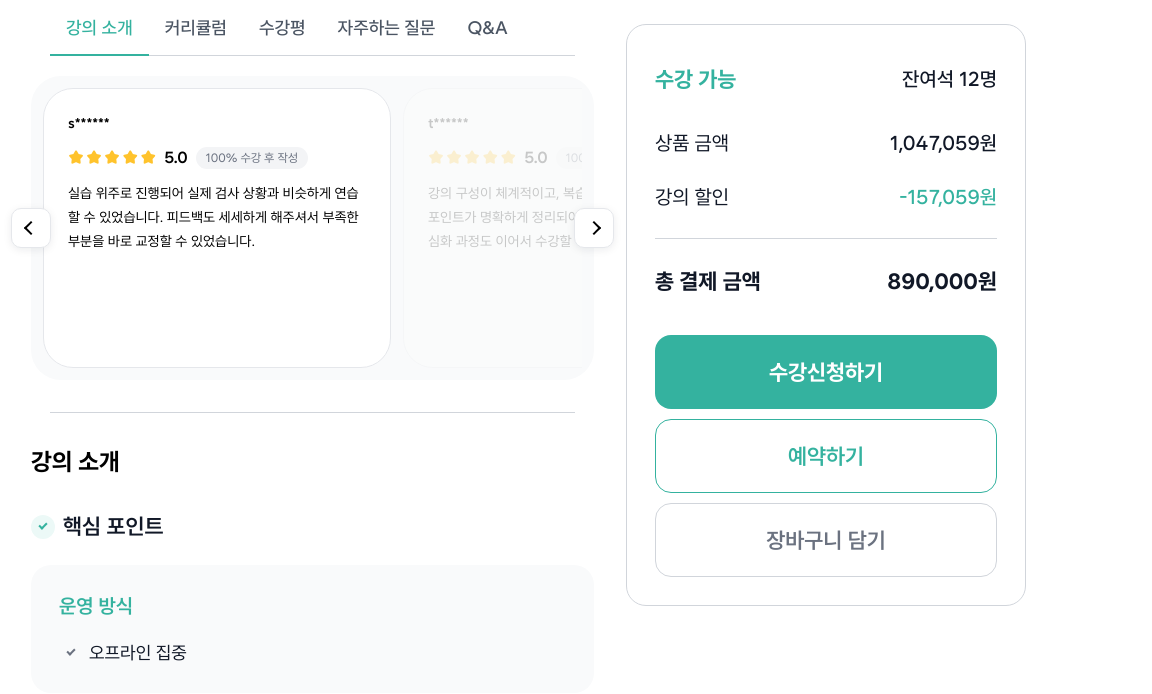
Test: ProgramPage › submits a reservation inquiry without requiring a login session
(page scrolled)
Click the button "예약하기" at (826, 456), box [655, 419, 997, 493]
(page scrolled)
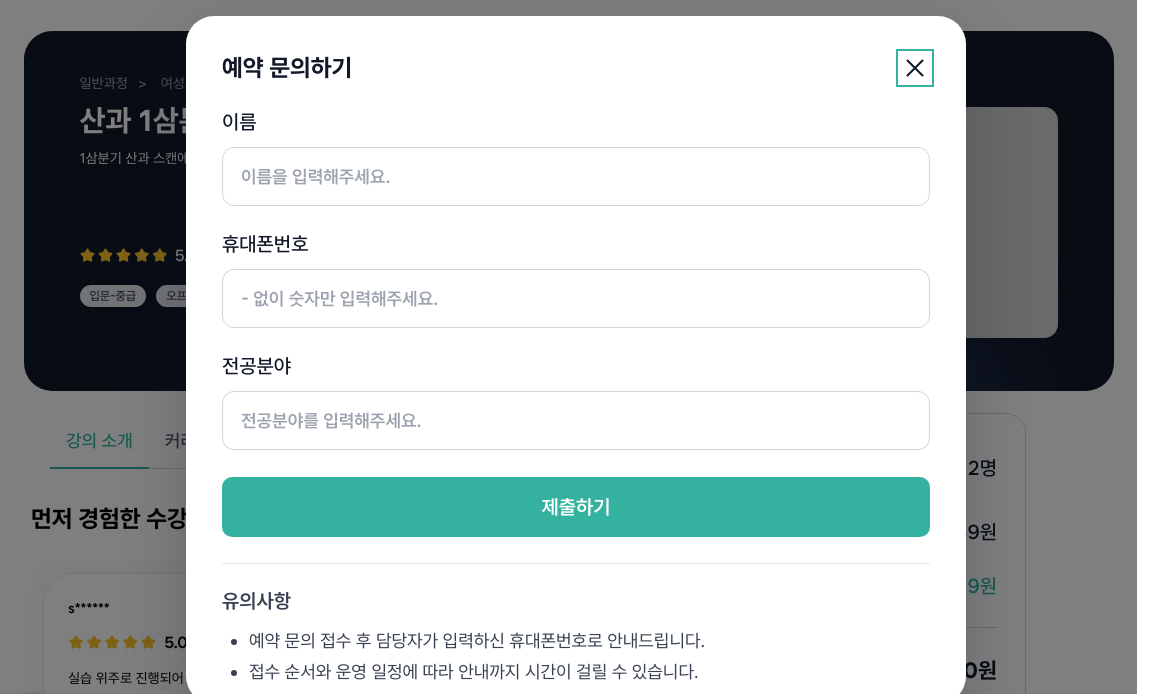
Expected: the field labelled "이름" is empty
Type "비회원 신청자" into the field labelled "이름" at (576, 177), box [222, 147, 930, 206]
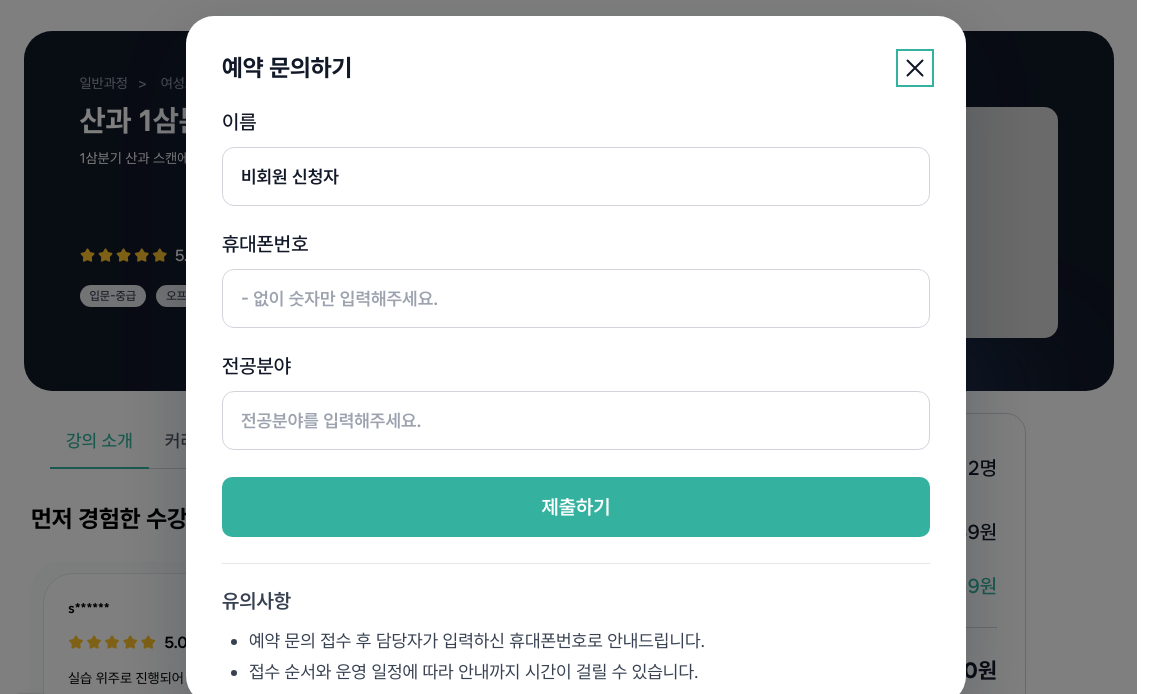
Type "01012345678" into the field labelled "휴대폰번호" at (576, 299), box [222, 269, 930, 328]
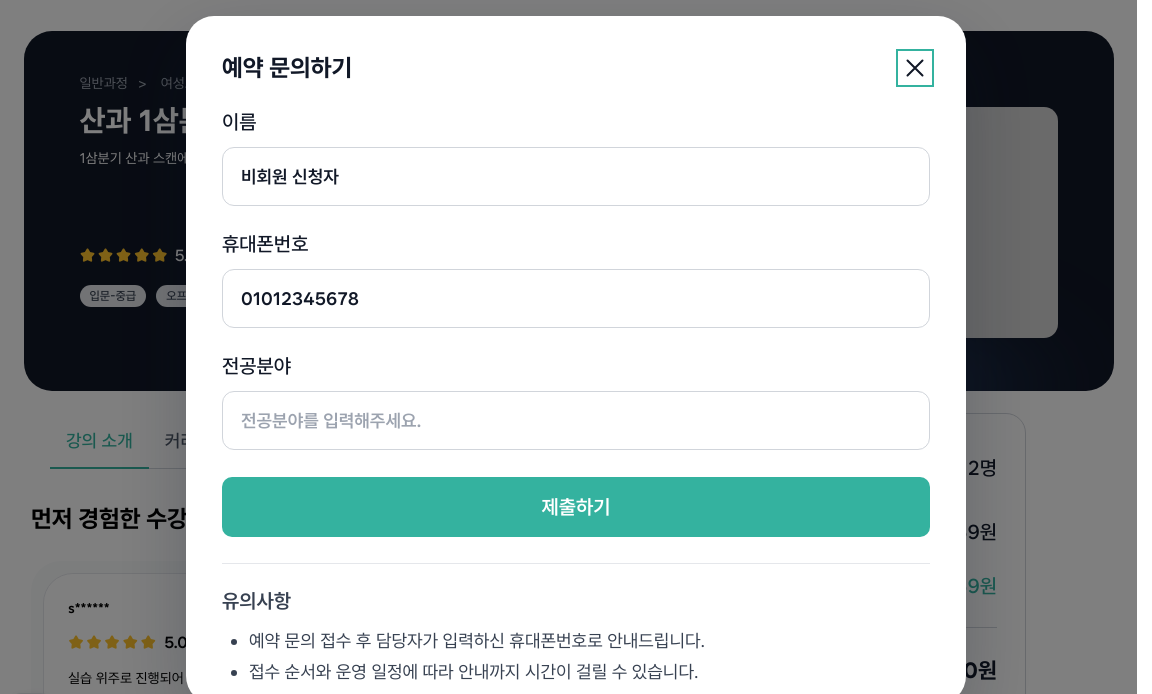
Type "방사선사" into the field labelled "전공분야" at (576, 421), box [222, 391, 930, 450]
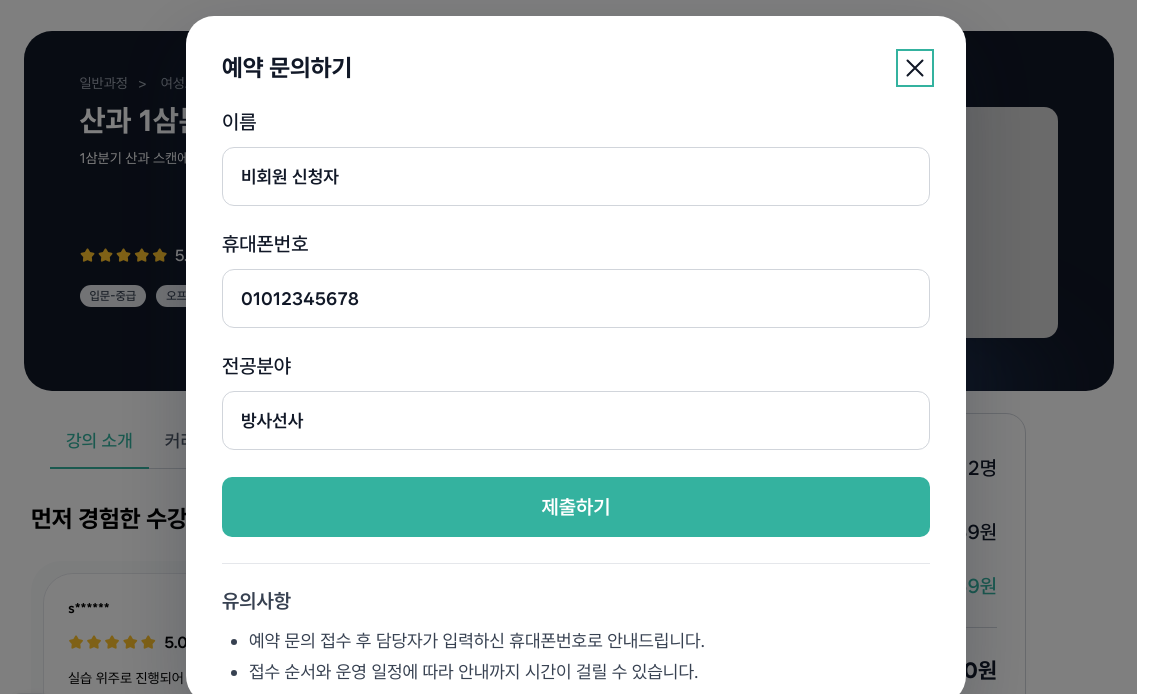
Click the button "제출하기" at (576, 507), box [222, 477, 930, 537]
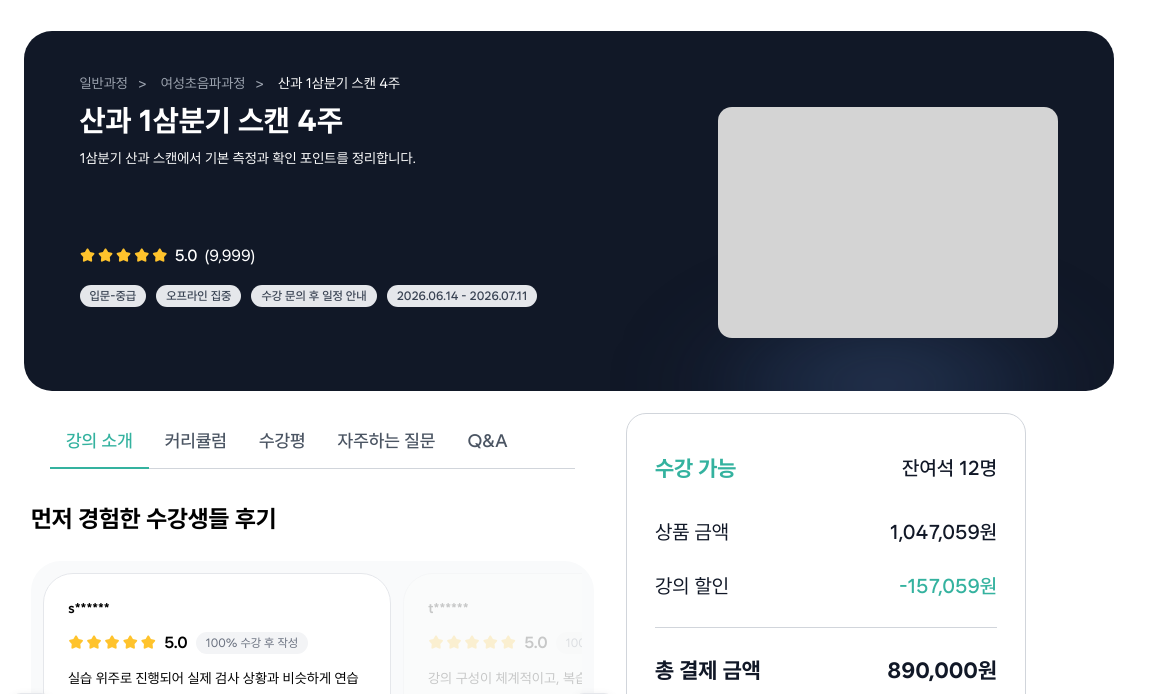
Expected: the text "예약 문의하기" is gone
